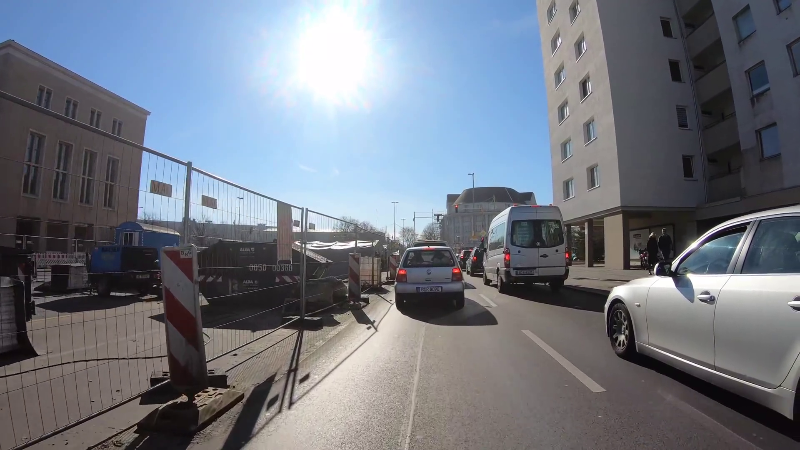Plate: (416, 285, 444, 292), (514, 269, 537, 275)
